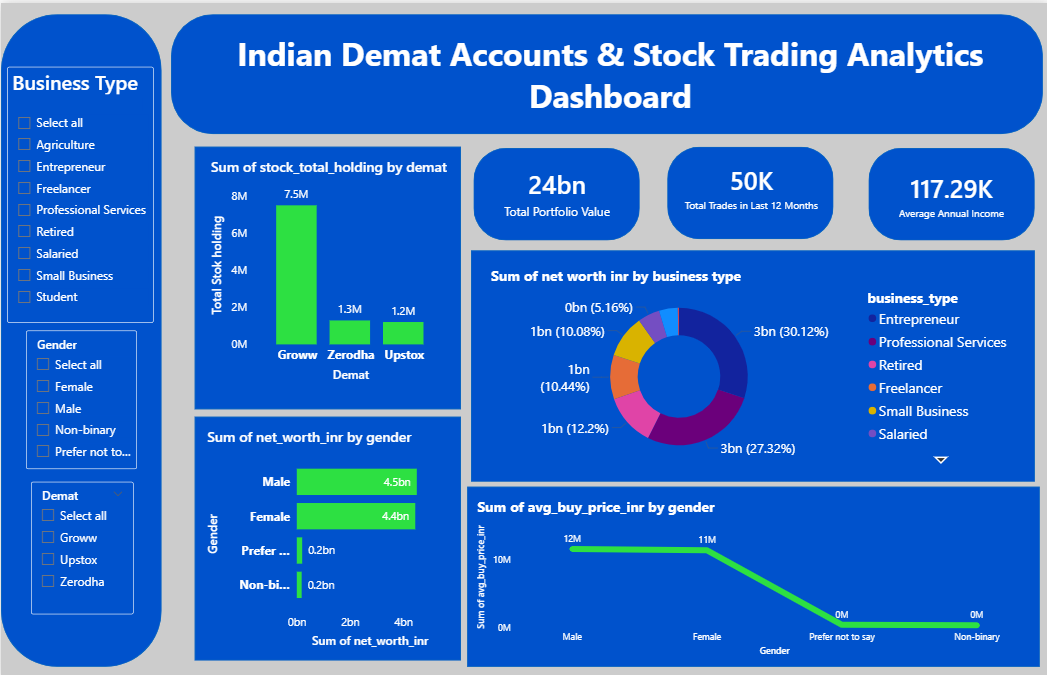

The dashboard page shown, as its layout file describes it:
{"tool":"powerbi","page":{"name":"View-Dashboard","canvas":[1400,900],"ordinal":0},"visuals":[{"type":"shape","box":[0,15.1,214.1,870.1],"z":0},{"type":"shape","box":[226.2,15.1,1162.7,159.9],"z":1},{"type":"textbox","box":[246.7,15,1131.7,145],"z":2},{"type":"shape","box":[258.3,191.7,355,350],"z":5},{"type":"shape","box":[888.3,191.7,221.7,123.3],"z":6},{"type":"shape","box":[630,193.3,221.7,123.3],"z":7},{"type":"shape","box":[1156.7,193.3,221.7,123.3],"z":8},{"type":"clusteredColumnChart","fields":{"Category":["indian_demat_customers.demat"],"Y":["Sum(indian_demat_customers.stock_total_holding)"]},"box":[275,205,325,305],"z":9},{"type":"shape","box":[626.7,330,751.7,308.3],"z":10},{"type":"donutChart","title":"Sum of net worth inr by business type","fields":{"Category":["indian_demat_customers.business_type"],"Y":["Sum(indian_demat_customers.net_worth_inr)"]},"box":[648.3,350,706.7,271.7],"z":11},{"type":"card","fields":{"Values":["indian_demat_customers.Total Portfolio Value"]},"box":[648.3,210,186.7,86.7],"z":13},{"type":"card","fields":{"Values":["indian_demat_customers.Total Trades in Last 12 Months"]},"box":[890,195,221.7,101.7],"z":15},{"type":"card","fields":{"Values":["indian_demat_customers.Average Annual Income"]},"box":[1180,205,175,101.7],"z":16},{"type":"slicer","title":"Business Type","fields":{"Values":["indian_demat_customers.business_type"]},"box":[8.3,85,195,341.7],"z":17},{"type":"slicer","fields":{"Values":["indian_demat_customers.gender"]},"box":[33.3,436.7,148.3,185],"z":18},{"type":"slicer","fields":{"Values":["indian_demat_customers.demat"]},"box":[40,638.3,136.7,176.7],"z":19},{"type":"shape","box":[258.3,551.7,355,325],"z":20},{"type":"shape","box":[621.7,645,763.3,240],"z":22},{"type":"lineChart","fields":{"Category":["indian_demat_customers.gender"],"Y":["Sum(indian_demat_customers.avg_buy_price_inr)"]},"box":[630,658.3,748.3,218.3],"z":23},{"type":"barChart","fields":{"Y":["Sum(indian_demat_customers.net_worth_inr)"],"Category":["indian_demat_customers.gender"]},"box":[270,565,338.3,300],"z":24}]}

Visuals, with their boxes in screenshot pixels (x1, y1, x2, y2), scaled from the page's 1400x900 canvas onto the 1047x675 screenshot:
shape: (0, 11, 160, 664)
shape: (169, 11, 1039, 131)
textbox: (184, 11, 1031, 120)
shape: (193, 144, 459, 406)
shape: (664, 144, 830, 236)
shape: (471, 145, 637, 237)
shape: (865, 145, 1031, 237)
clusteredColumnChart - indian_demat_customers.demat x Sum(indian_demat_customers.stock_total_holding): (206, 154, 449, 382)
shape: (469, 248, 1031, 479)
"Sum of net worth inr by business type" donutChart: (485, 262, 1013, 466)
card - indian_demat_customers.Total Portfolio Value: (485, 158, 624, 223)
card - indian_demat_customers.Total Trades in Last 12 Months: (666, 146, 831, 223)
card - indian_demat_customers.Average Annual Income: (882, 154, 1013, 230)
"Business Type" slicer: (6, 64, 152, 320)
slicer - indian_demat_customers.gender: (25, 328, 136, 466)
slicer - indian_demat_customers.demat: (30, 479, 132, 611)
shape: (193, 414, 459, 658)
shape: (465, 484, 1036, 664)
lineChart - indian_demat_customers.gender x Sum(indian_demat_customers.avg_buy_price_inr): (471, 494, 1031, 657)
barChart - Sum(indian_demat_customers.net_worth_inr) x indian_demat_customers.gender: (202, 424, 455, 649)
